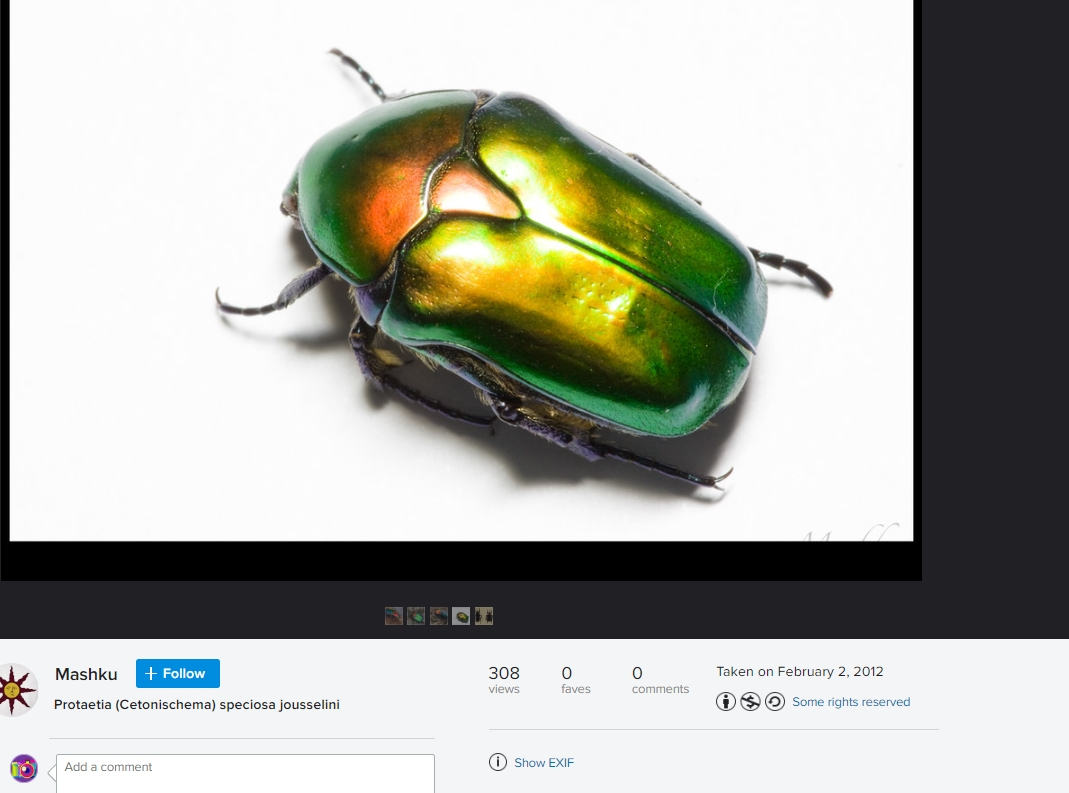Protaetia_speciosa_jousselini: (203, 42, 834, 499)
